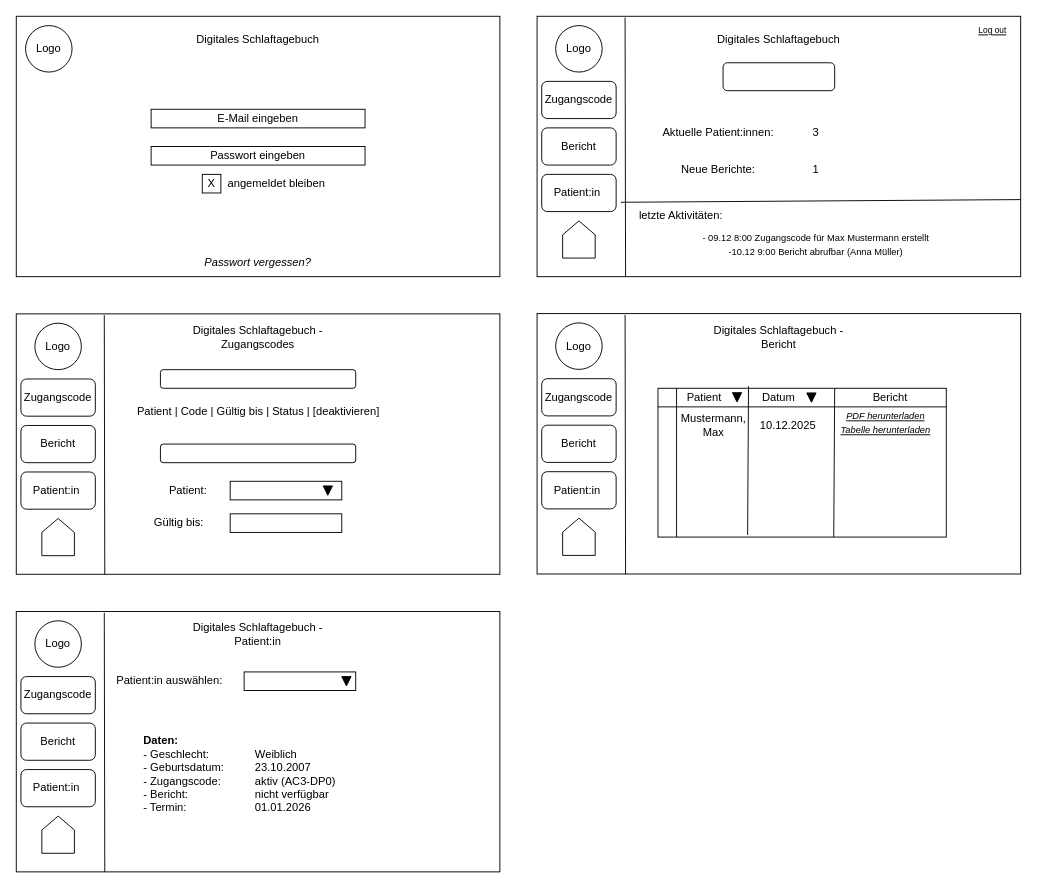
Some shapes in this 1038 by 890 pixel diagram are drawn without their labels. The shapes that lost their labels are listed below. From the top down, each one's centre as x and y in pixels, then its label:
(x=778, y=76): Wilkommen, Dr. Weller!
(x=257, y=378): aktuelle Zugangscodes einsehen
(x=257, y=453): neuen Zugangscode erstellen
